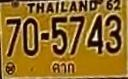0: (22, 18, 38, 54)
3: (105, 14, 120, 52)
4: (87, 14, 102, 53)
5: (51, 16, 66, 54)
7: (69, 15, 84, 54), (6, 18, 20, 56)
TAK: (50, 60, 77, 75)
